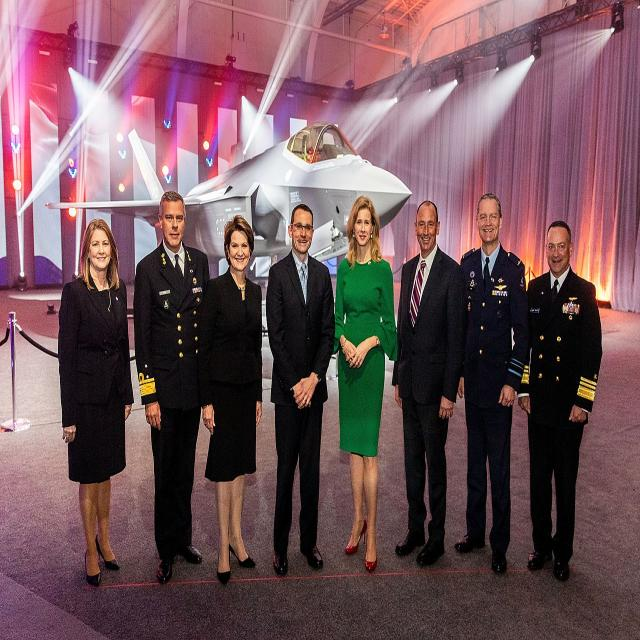MIL_Plane: (44, 123, 413, 263)
